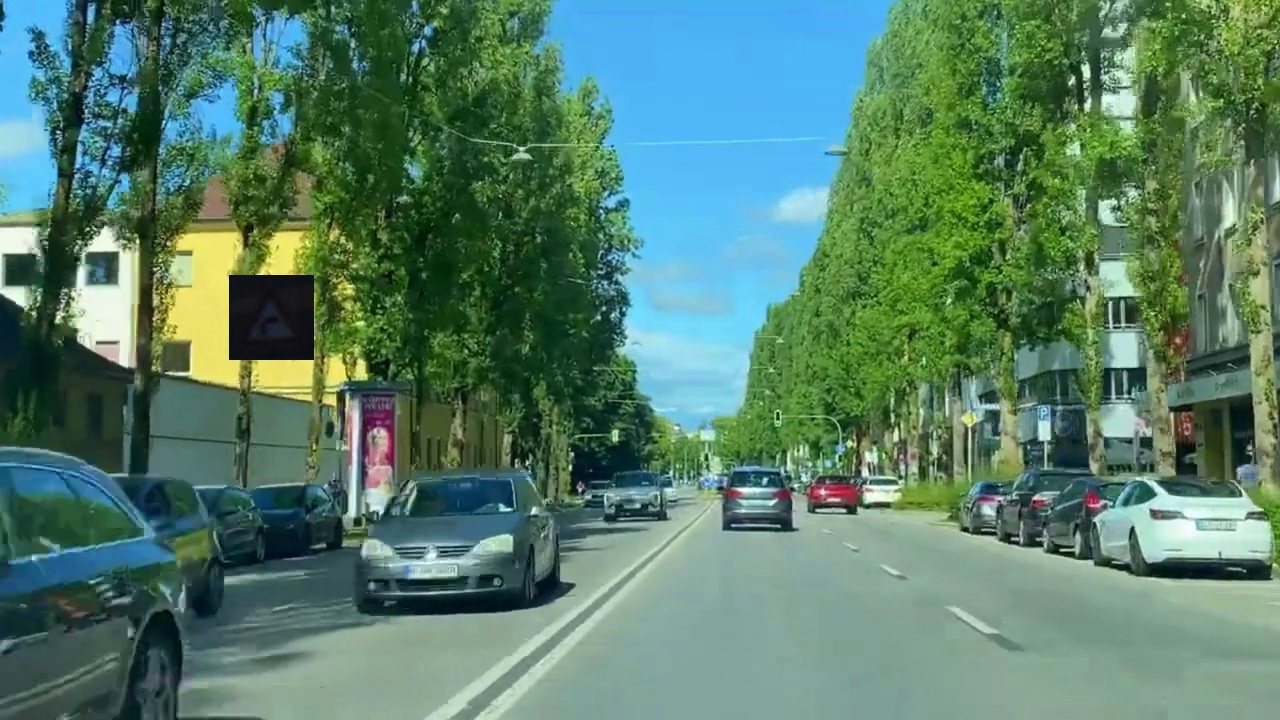Curve right: (229, 275, 314, 360)
